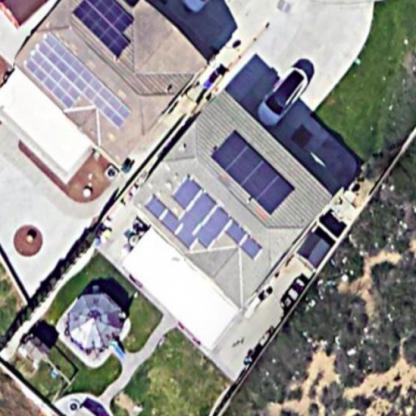car: (237, 58, 313, 128)
solar_panel: (18, 24, 133, 134), (144, 172, 271, 264), (206, 120, 292, 215), (67, 1, 153, 65)
